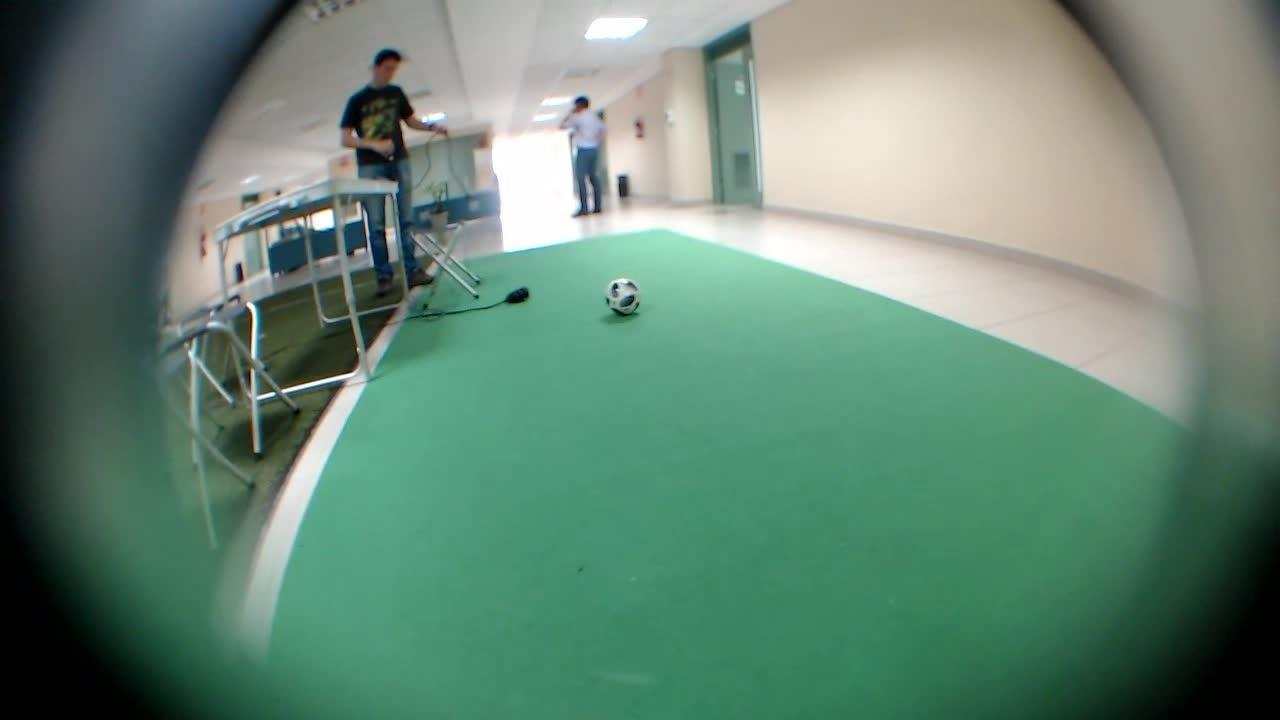ball: (599, 271, 648, 318)
